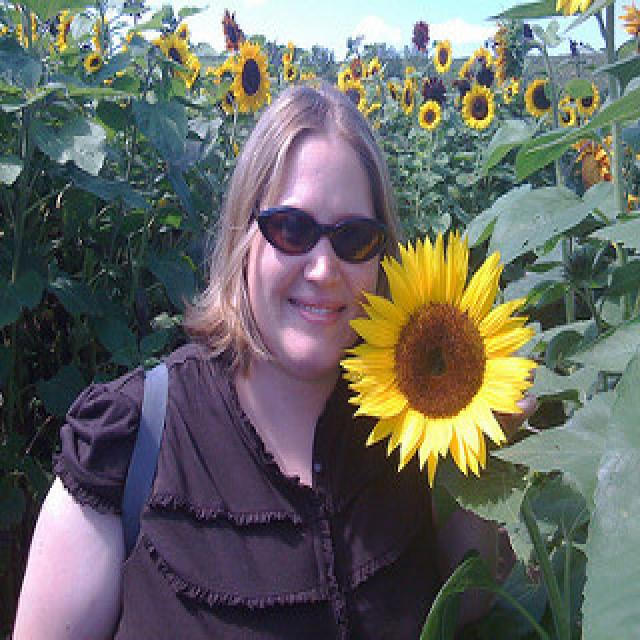sunflower: (338, 228, 536, 495), (231, 34, 277, 122), (461, 80, 497, 131), (157, 28, 193, 73), (523, 74, 555, 122), (572, 78, 604, 118), (417, 99, 443, 133), (435, 36, 451, 73)
